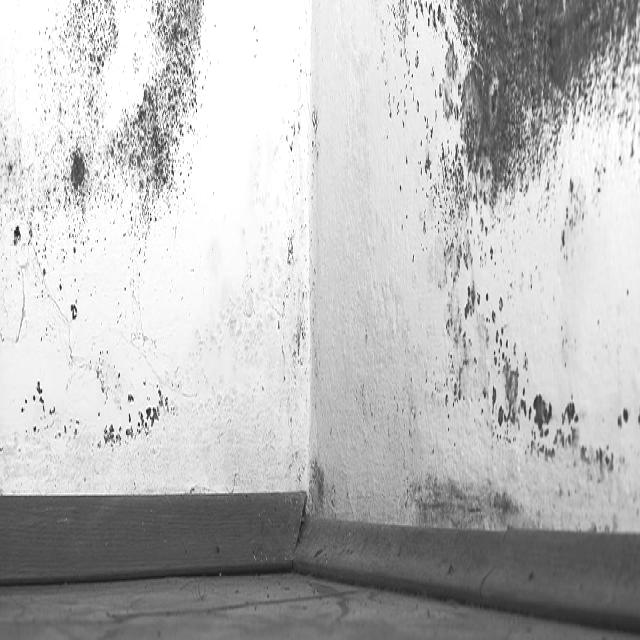stain marks: (309, 0, 640, 536), (1, 0, 308, 478)
